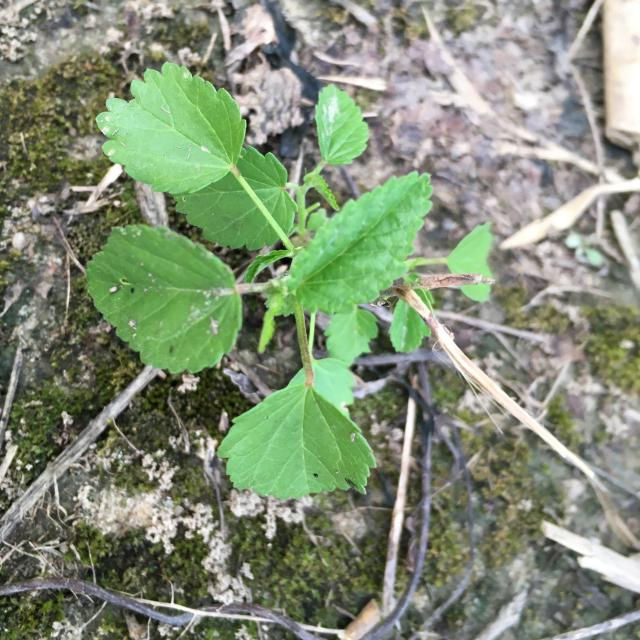PricklySida: (85, 61, 493, 500)
